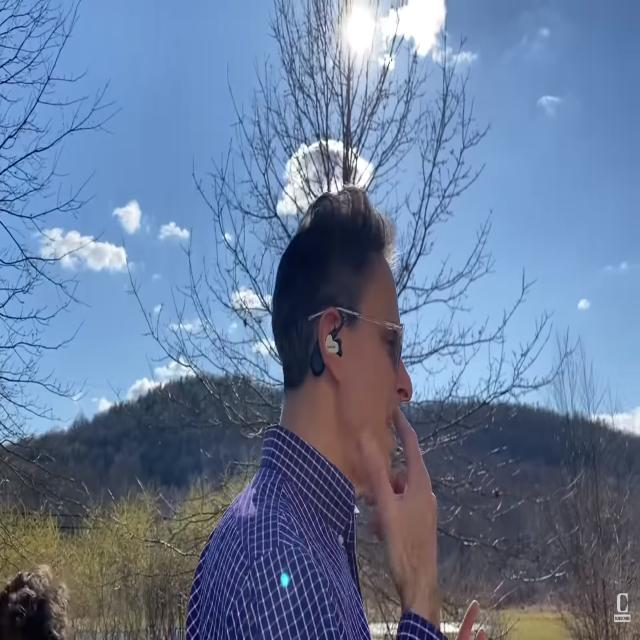airpods: (310, 309, 344, 377)
